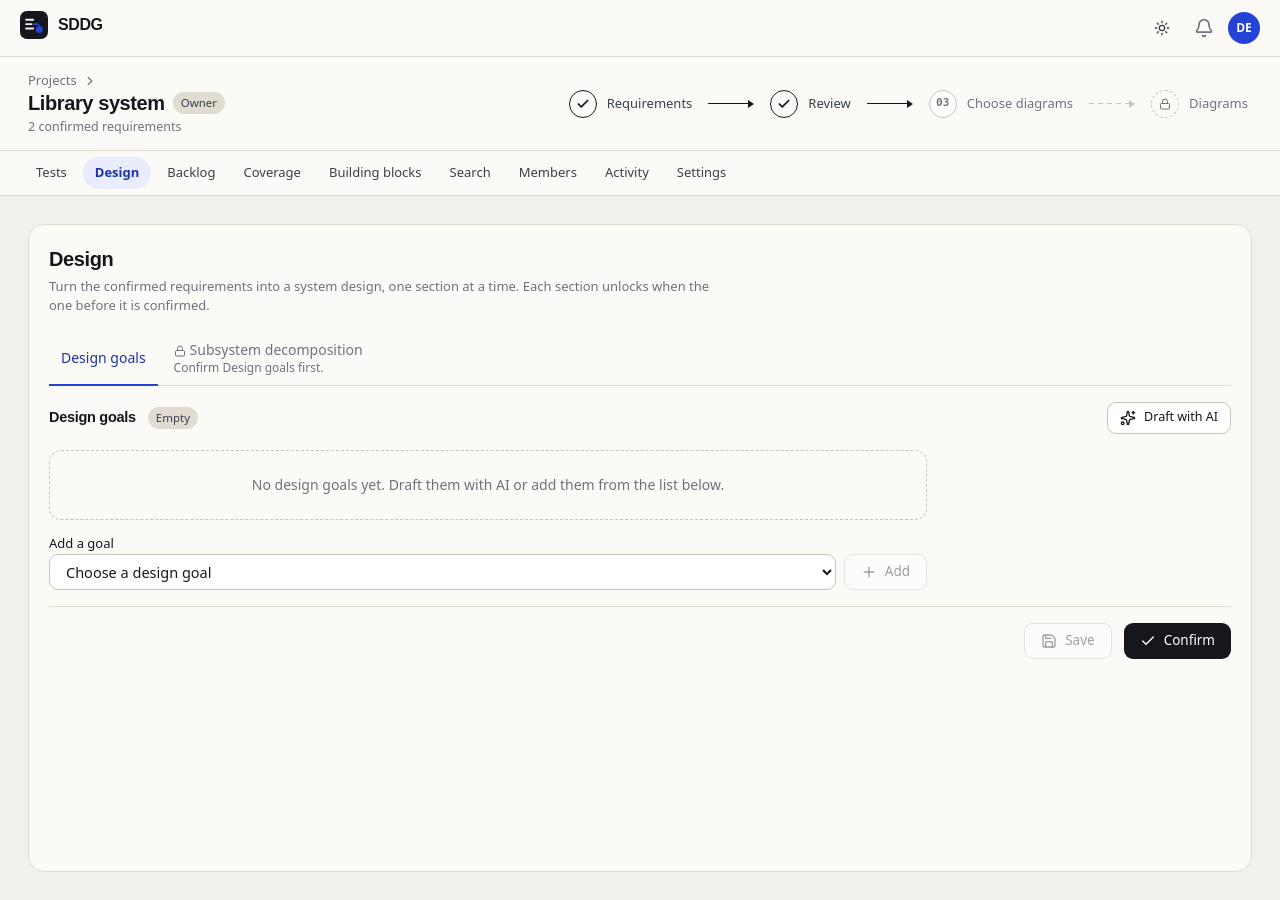
Test: Design page › drafts the goals with AI: Empty, then the drafted goals with their requirements, as a Draft
The image size is (1280, 900).
Check: the text "Empty" is shown, box [148,407,198,429]
Click the button "Draft with AI" at [1169, 418], box [1107,402,1231,434]
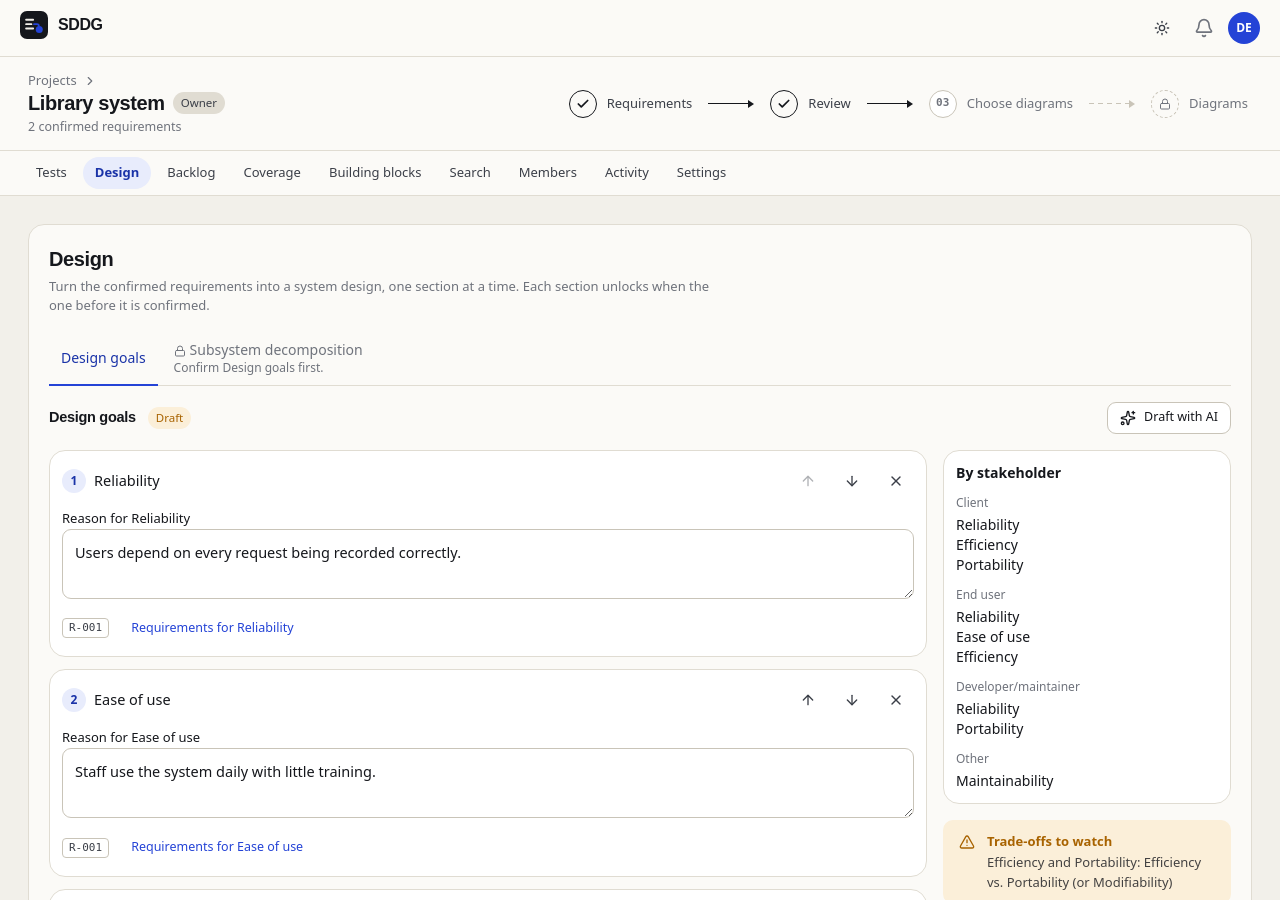
Check: the text "Draft" is shown, box [148,407,191,429]
Check: the heading "Reliability" is shown, box [94,470,160,490]
Check: the 1st text "R-001" is shown, box [62,618,109,638]
